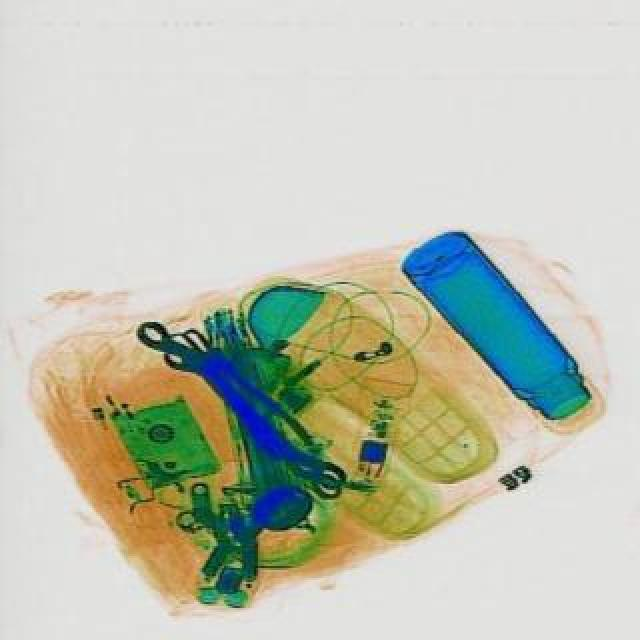scissors: (128, 314, 352, 494)
